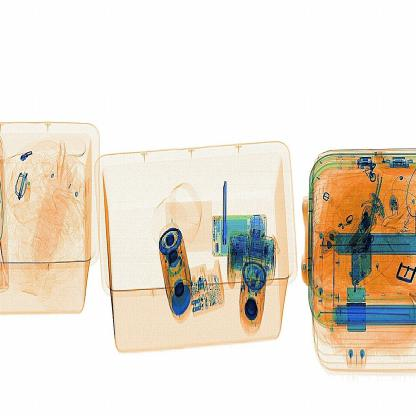pliers: (220, 178, 234, 254)
